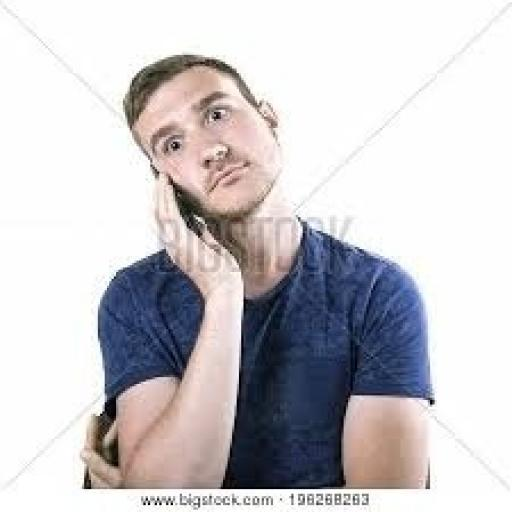calling: (80, 50, 437, 489)
